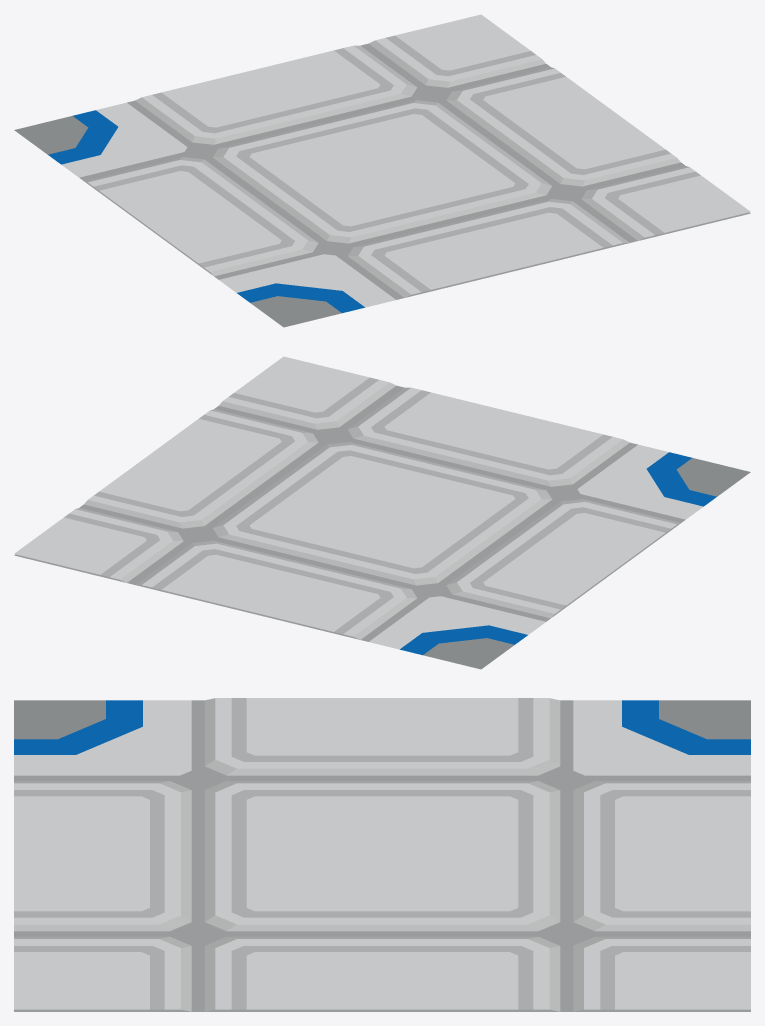
The model's file is Floor_type_A_027.fbx.
3 views of the same model, one above another, from view 1: azimuth 30°, elevation 25°; view 2: azimuth 150°, elevation 25°; view 3: azimuth 270°, elevation 25° (orthographic). The views are drawn at different scales.
Visible parts, largest first — view 1: Floor_type_A_027; view 2: Floor_type_A_027; view 3: Floor_type_A_027.
Boxes of the visible parts, <box> form: Floor_type_A_027: <box>14,14,750,327</box>; Floor_type_A_027: <box>14,356,750,669</box>; Floor_type_A_027: <box>14,698,750,1011</box>.
Size of the model in its own units: 400 by 400 by 1.34.
